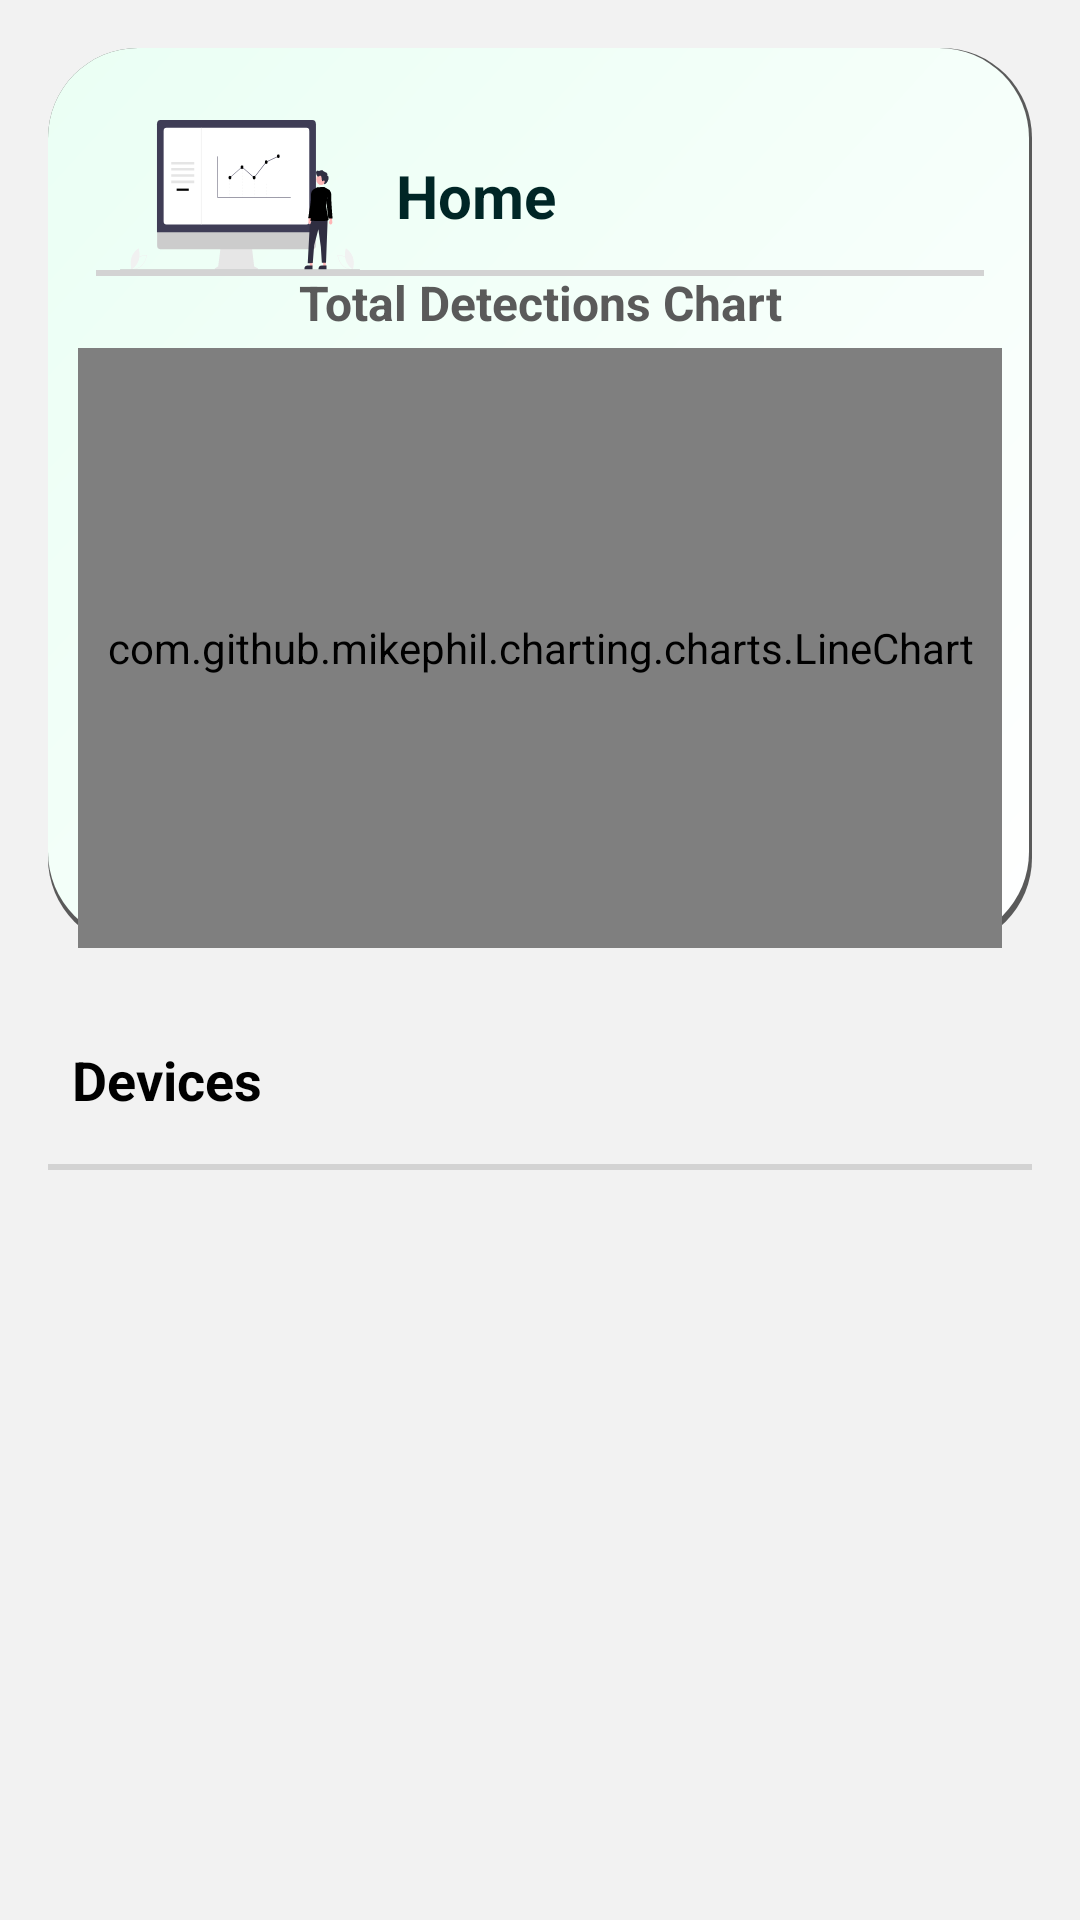

Screen size 1080x1920. Icon name, then its center in pixels as point (x, y):
undraw dashboard re 3b: point (240, 195)
